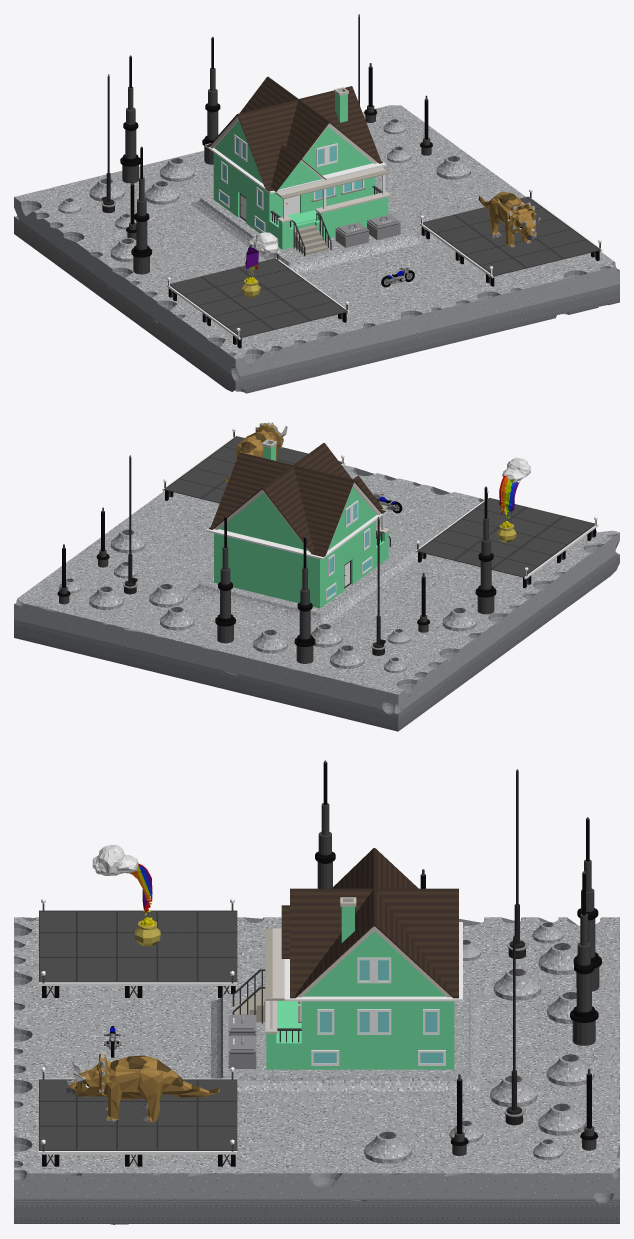
The picture shows the model from 3 angles, top to bottom: view 1: azimuth 30°, elevation 25°; view 2: azimuth 150°, elevation 25°; view 3: azimuth 270°, elevation 25°; orthographic projection. The views are drawn at different scales.
Parts seen in each view (by area): view 1: Cube.027, Cube.352, Cube.025, Cube.026, Cube.028, ANIMAL_Triceratops, Cylinder.021, Cylinder.020, OBJRANDOM_RAINBOW, Cylinder.017, Cube.029, Cube.030 (+5 smaller); view 2: Cube.027, Cube.352, Cube.025, Cube.028, Cube.026, OBJRANDOM_RAINBOW, Cylinder.021, Cylinder.020, Cylinder.017, ANIMAL_Triceratops, Cylinder.029, Cylinder.030 (+8 smaller); view 3: Cube.027, Cube.352, Cube.025, Cube.026, Cube.028, ANIMAL_Triceratops, Cylinder.017, OBJRANDOM_RAINBOW, Cylinder.021, Cylinder.020, Cylinder.031, Cylinder.033 (+11 smaller).
Part boxes in pixels (x1,y1,x2,y2): Cube.027: [14, 105, 619, 393]; Cube.352: [205, 76, 390, 256]; Cube.025: [166, 251, 349, 348]; Cube.026: [419, 189, 602, 286]; Cube.028: [191, 194, 423, 273]; ANIMAL_Triceratops: [478, 191, 540, 247]; Cylinder.021: [131, 146, 151, 274]; Cylinder.020: [120, 55, 140, 183]; OBJRANDOM_RAINBOW: [241, 232, 279, 298]; Cylinder.017: [202, 36, 220, 164]; Cube.029: [335, 222, 368, 247]; Cube.030: [367, 214, 400, 240]; Cube.027: [14, 465, 619, 731]; Cube.352: [206, 439, 390, 608]; Cube.025: [415, 490, 598, 588]; Cube.028: [189, 543, 417, 624]; Cube.026: [162, 428, 345, 503]; OBJRANDOM_RAINBOW: [497, 457, 530, 542]; Cylinder.021: [475, 486, 496, 614]; Cylinder.020: [294, 536, 315, 663]; Cylinder.017: [215, 515, 235, 643]; ANIMAL_Triceratops: [225, 422, 287, 482]; Cylinder.029: [160, 606, 194, 630]; Cylinder.030: [149, 583, 183, 607]; Cube.027: [14, 917, 619, 1223]; Cube.352: [232, 848, 462, 1069]; Cube.025: [39, 898, 237, 997]; Cube.026: [39, 1067, 237, 1166]; Cube.028: [211, 994, 480, 1091]; ANIMAL_Triceratops: [65, 1051, 219, 1122]; Cylinder.017: [570, 871, 598, 1045]; OBJRANDOM_RAINBOW: [92, 845, 160, 946]; Cylinder.021: [315, 760, 335, 888]; Cylinder.020: [573, 817, 601, 991]; Cylinder.031: [538, 1102, 585, 1135]; Cylinder.033: [364, 1130, 411, 1163].
Size of the model in its own units: 4000 by 1772 by 4000.
Materials: 39 (4 with a texture image).
